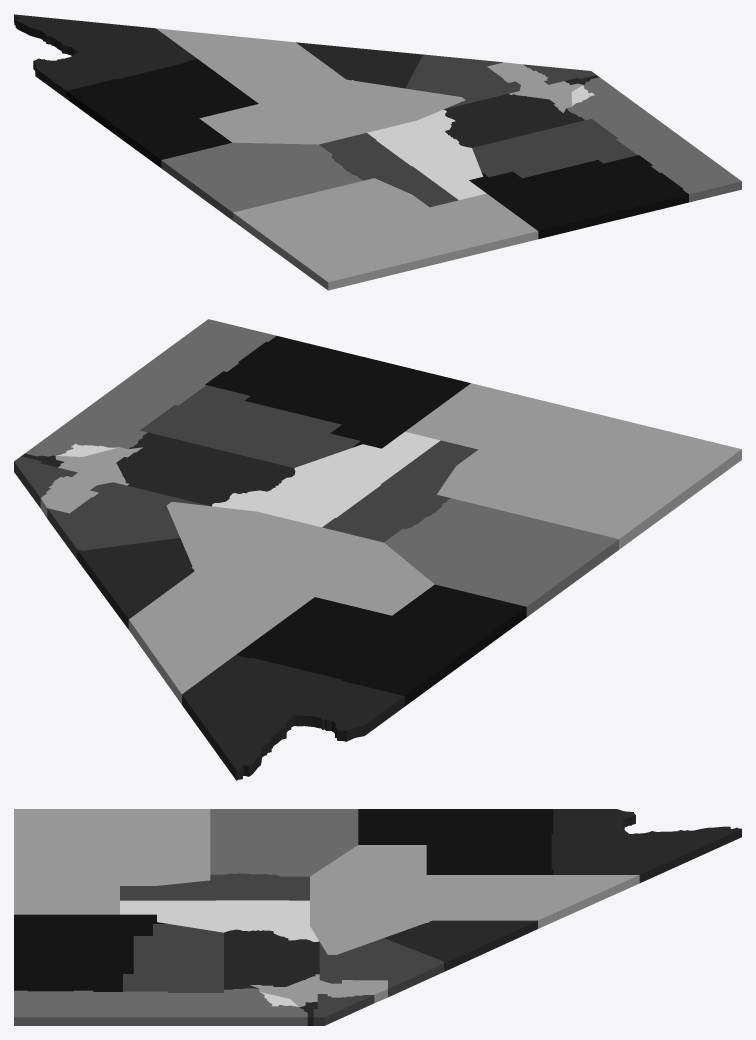
File: Nevada_Counties_3D.fbx
3 renders of one model, top to bottom at view 1: azimuth 30°, elevation 25°; view 2: azimuth 150°, elevation 25°; view 3: azimuth 270°, elevation 25°, orthographic. The views are drawn at different scales.
Visible parts, largest first — view 1: NV_Elko_County_3D, NV_Nye_County_3D, NV_Lincoln_County_3D, NV_Humboldt_County_3D, NV_White_Pine_County_3D, NV_Clark_County_3D, NV_Washoe_County_3D, NV_Pershing_County_3D, NV_Lander_County_3D, NV_Churchill_County_3D, NV_Eureka_County_3D, NV_Mineral_County_3D (+3 smaller); view 2: NV_Elko_County_3D, NV_Nye_County_3D, NV_Lincoln_County_3D, NV_White_Pine_County_3D, NV_Humboldt_County_3D, NV_Clark_County_3D, NV_Washoe_County_3D, NV_Pershing_County_3D, NV_Lander_County_3D, NV_Churchill_County_3D, NV_Eureka_County_3D, NV_Mineral_County_3D (+3 smaller); view 3: NV_Nye_County_3D, NV_Elko_County_3D, NV_Lincoln_County_3D, NV_Washoe_County_3D, NV_Humboldt_County_3D, NV_White_Pine_County_3D, NV_Clark_County_3D, NV_Pershing_County_3D, NV_Lander_County_3D, NV_Churchill_County_3D, NV_Mineral_County_3D, NV_Esmeralda_County_3D (+3 smaller).
Boxes of the visible parts, left/top/right/bottom form: NV_Elko_County_3D: left=233, top=178, right=538, bottom=290; NV_Nye_County_3D: left=156, top=28, right=465, bottom=144; NV_Lincoln_County_3D: left=66, top=59, right=258, bottom=167; NV_Humboldt_County_3D: left=469, top=155, right=688, bottom=239; NV_White_Pine_County_3D: left=161, top=142, right=362, bottom=220; NV_Clark_County_3D: left=14, top=14, right=196, bottom=98; NV_Washoe_County_3D: left=566, top=77, right=741, bottom=202; NV_Pershing_County_3D: left=472, top=119, right=637, bottom=178; NV_Lander_County_3D: left=367, top=110, right=486, bottom=200; NV_Churchill_County_3D: left=443, top=93, right=584, bottom=147; NV_Eureka_County_3D: left=319, top=133, right=458, bottom=207; NV_Mineral_County_3D: left=405, top=55, right=520, bottom=109; NV_Elko_County_3D: left=405, top=383, right=741, bottom=549; NV_Nye_County_3D: left=128, top=501, right=434, bottom=704; NV_Lincoln_County_3D: left=236, top=584, right=526, bottom=706; NV_White_Pine_County_3D: left=384, top=498, right=618, bottom=616; NV_Humboldt_County_3D: left=205, top=336, right=470, bottom=448; NV_Clark_County_3D: left=182, top=655, right=404, bottom=780; NV_Washoe_County_3D: left=25, top=319, right=276, bottom=456; NV_Pershing_County_3D: left=140, top=385, right=360, bottom=467; NV_Lander_County_3D: left=212, top=431, right=440, bottom=527; NV_Churchill_County_3D: left=116, top=432, right=295, bottom=506; NV_Eureka_County_3D: left=322, top=440, right=477, bottom=542; NV_Mineral_County_3D: left=47, top=482, right=210, bottom=559; NV_Nye_County_3D: left=310, top=845, right=639, bottom=954; NV_Elko_County_3D: left=14, top=809, right=210, bottom=914; NV_Lincoln_County_3D: left=358, top=809, right=553, bottom=874; NV_Washoe_County_3D: left=14, top=988, right=307, bottom=1025; NV_Humboldt_County_3D: left=14, top=914, right=167, bottom=991; NV_White_Pine_County_3D: left=210, top=809, right=358, bottom=876; NV_Clark_County_3D: left=551, top=809, right=741, bottom=882; NV_Pershing_County_3D: left=123, top=924, right=223, bottom=992; NV_Lander_County_3D: left=120, top=900, right=319, bottom=941; NV_Churchill_County_3D: left=224, top=929, right=319, bottom=989; NV_Mineral_County_3D: left=319, top=938, right=443, bottom=997; NV_Esmeralda_County_3D: left=384, top=920, right=537, bottom=971.
Bounding box in the file's own units: 526 × 10 × 777.
